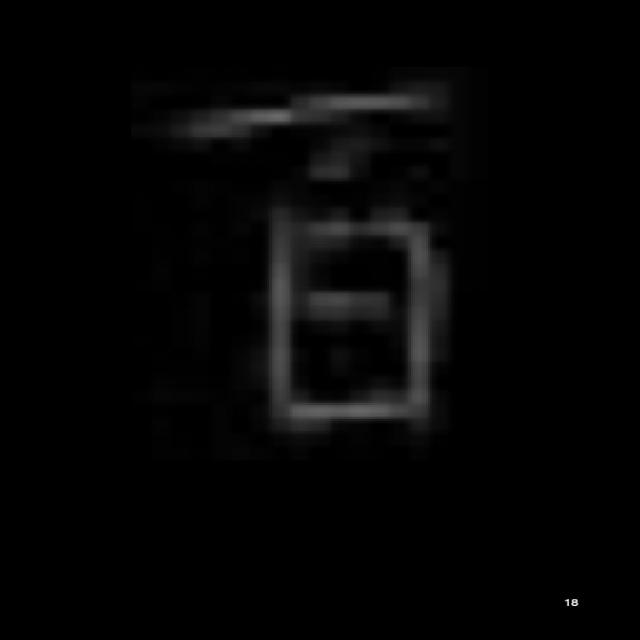100 -a hundred-: (150, 80, 454, 434)
